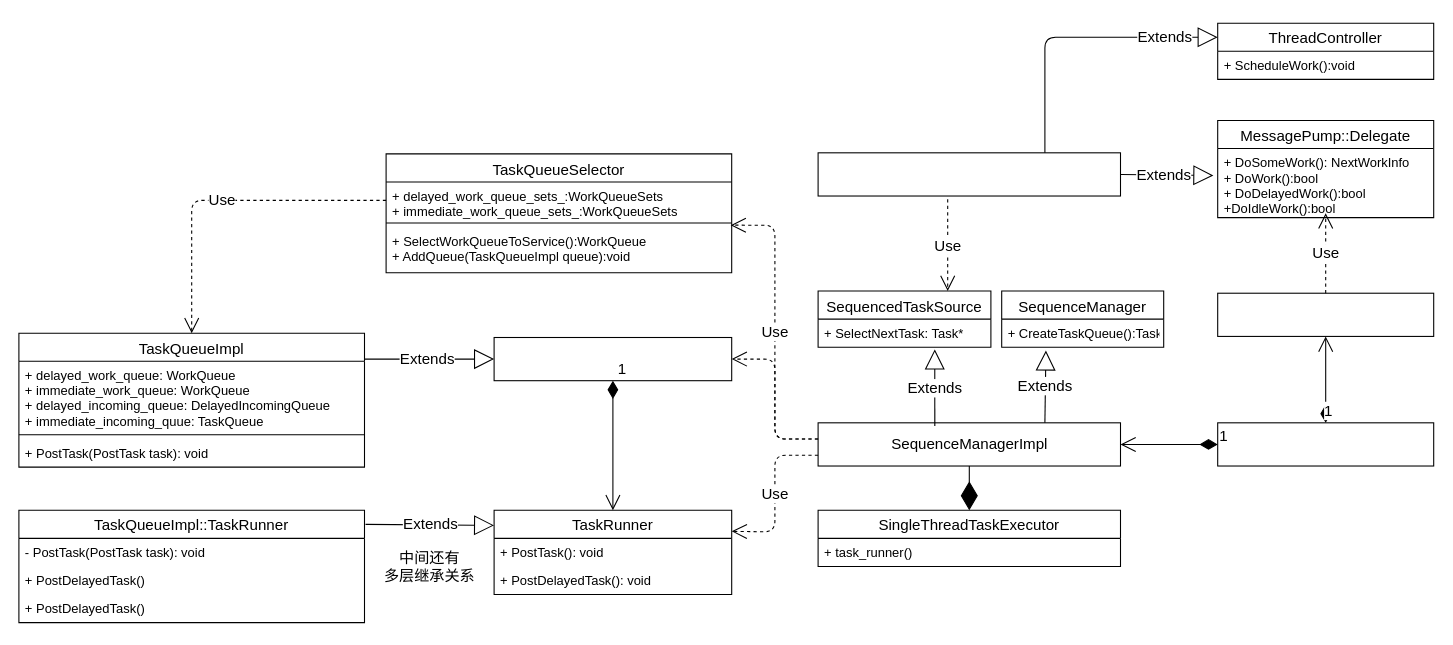
Image size: 1453x645. Some labels were removed from this diagram. Here are the shapes that lost their labels. From the top down, the centre of each, then its label:
At (968,174): "ThreadControllerWithMessagePumpImpl".
At (1325,314): "MessagePump".
At (612,358): "TaskQueue".
At (1325,444): "MessageLoop".
